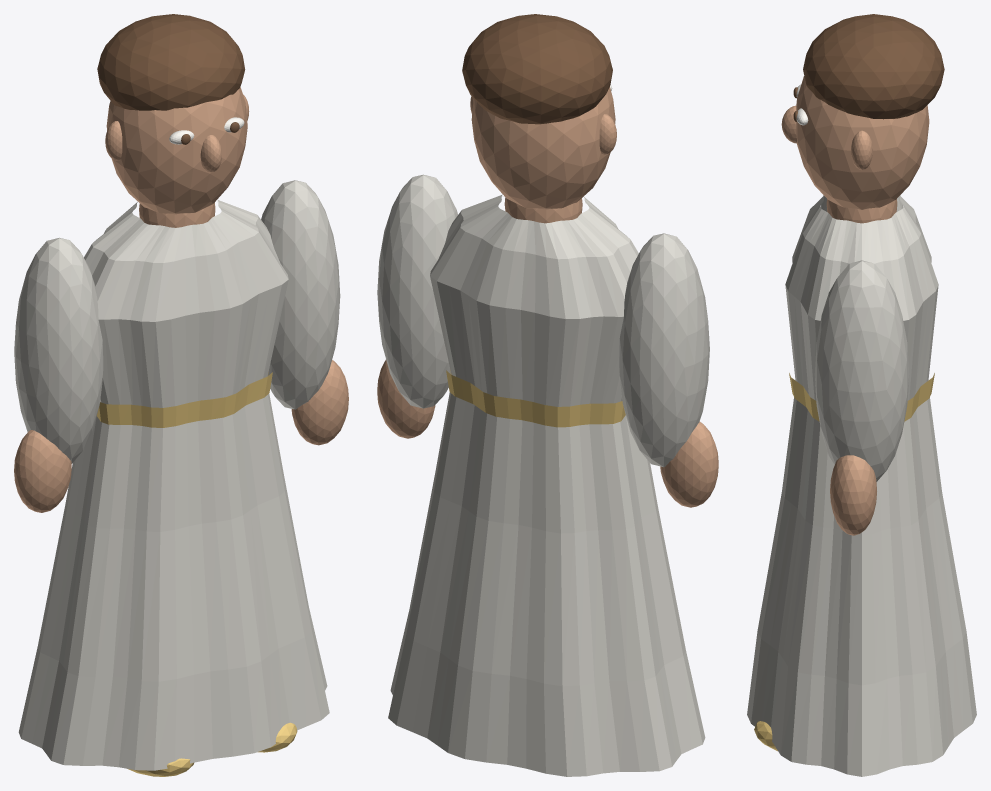
The model's file is angel.glb.
3 views of the same model, side by side, from view 1: azimuth 30°, elevation 25°; view 2: azimuth 150°, elevation 25°; view 3: azimuth 270°, elevation 25° (orthographic). The views are drawn at different scales.
Visible parts, largest first — view 1: body_0, body_8, body_14, body_3, body_2, body_17, body_9, body_15, body_1, body_4; view 2: body_0, body_8, body_14, body_3, body_2, body_17, body_9, body_15, body_1, body_7; view 3: body_0, body_14, body_3, body_2, body_15, body_17, body_1, body_13, body_4.
Boxes of the visible parts, <box> form: body_0: <box>18,200,329,770</box>; body_8: <box>14,237,103,463</box>; body_14: <box>261,180,340,409</box>; body_3: <box>97,14,245,110</box>; body_2: <box>106,87,247,214</box>; body_17: <box>96,372,272,427</box>; body_9: <box>14,430,71,512</box>; body_15: <box>291,360,348,445</box>; body_1: <box>139,202,215,227</box>; body_4: <box>200,135,221,172</box>; body_0: <box>388,194,705,776</box>; body_8: <box>619,233,709,467</box>; body_14: <box>377,174,457,408</box>; body_3: <box>462,14,612,124</box>; body_2: <box>471,87,615,209</box>; body_17: <box>446,370,625,427</box>; body_9: <box>660,421,718,507</box>; body_15: <box>377,360,435,438</box>; body_1: <box>504,197,582,223</box>; body_7: <box>599,114,616,154</box>; body_0: <box>747,196,976,776</box>; body_14: <box>814,260,909,481</box>; body_3: <box>803,14,944,119</box>; body_2: <box>796,76,929,209</box>; body_15: <box>830,455,876,535</box>; body_17: <box>789,373,934,421</box>; body_1: <box>826,199,897,223</box>; body_13: <box>851,130,872,170</box>; body_4: <box>781,105,796,143</box>.
Bounding box in the file's own units: 1.12 × 2.31 × 0.6816.
